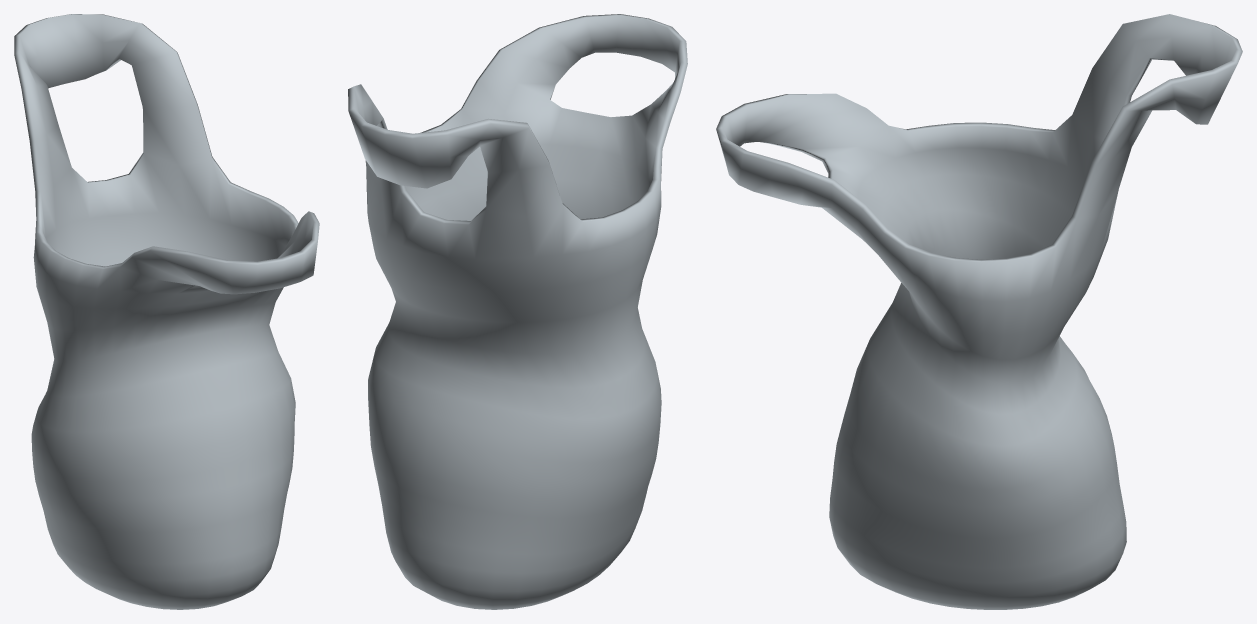
The model's file is BolsaPlastico_06.001.fbx.
3 views of the same model, side by side, from view 1: azimuth 30°, elevation 25°; view 2: azimuth 150°, elevation 25°; view 3: azimuth 270°, elevation 25° (orthographic). The views are drawn at different scales.
Visible parts, largest first — view 1: BolsaPlastico_06.001; view 2: BolsaPlastico_06.001; view 3: BolsaPlastico_06.001.
Part boxes in pixels (<box>): BolsaPlastico_06.001: <box>14,14,319,609</box>; BolsaPlastico_06.001: <box>348,14,687,609</box>; BolsaPlastico_06.001: <box>716,14,1242,609</box>.
Size of the model in its own units: 37.06 by 71.16 by 62.97.
